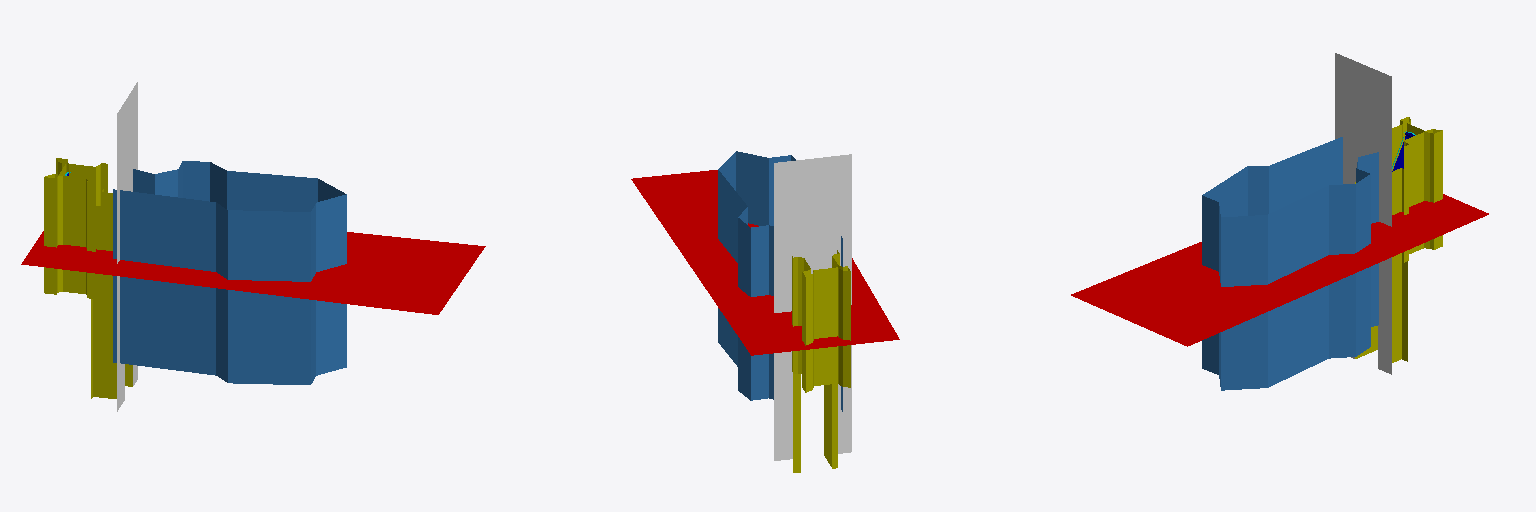
File: STG0100_COLI_18.OBJ
3 views of the same model, side by side, from view 1: azimuth 30°, elevation 25°; view 2: azimuth 150°, elevation 25°; view 3: azimuth 270°, elevation 25° (orthographic).
Parts seen in each view (by area): view 1: STG0100_COLI_18_[number redacted], STG0100_COLI_18_[number redacted], STG0100_COLI_18_[number redacted], STG0100_COLI_18_[number redacted]; view 2: STG0100_COLI_18_[number redacted], STG0100_COLI_18_[number redacted], STG0100_COLI_18_[number redacted], STG0100_COLI_18_[number redacted]; view 3: STG0100_COLI_18_[number redacted], STG0100_COLI_18_[number redacted], STG0100_COLI_18_[number redacted], STG0100_COLI_18_[number redacted].
Part boxes in pixels (x1,y1,x2,y2): STG0100_COLI_18_[number redacted]: (113,161,346,384); STG0100_COLI_18_[number redacted]: (21,231,485,314); STG0100_COLI_18_[number redacted]: (44,158,132,398); STG0100_COLI_18_[number redacted]: (117,82,137,411); STG0100_COLI_18_[number redacted]: (631,170,899,355); STG0100_COLI_18_[number redacted]: (774,154,851,460); STG0100_COLI_18_[number redacted]: (718,151,842,411); STG0100_COLI_18_[number redacted]: (792,250,850,472); STG0100_COLI_18_[number redacted]: (1202,137,1378,390); STG0100_COLI_18_[number redacted]: (1071,194,1488,346); STG0100_COLI_18_[number redacted]: (1335,53,1391,374); STG0100_COLI_18_[number redacted]: (1355,117,1442,362).
Size of the model in its own units: 3508 by 2724 by 3479.